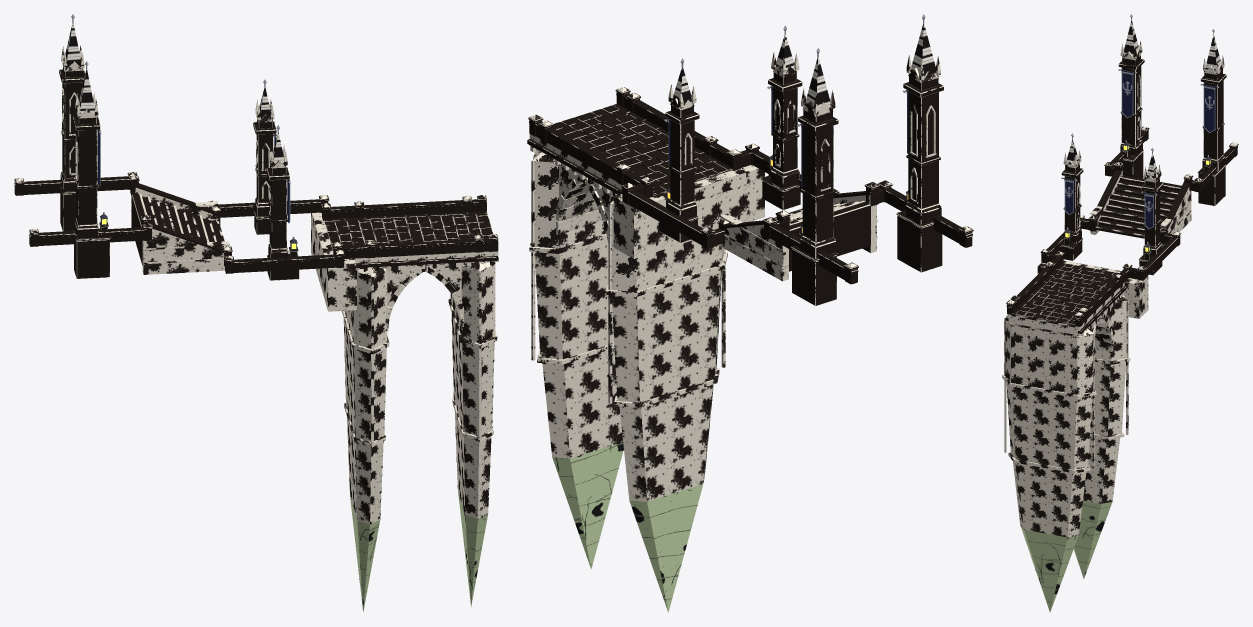
File: ILHA3_18_ENTRY_545a69.fbx
3 renders of one model, left to right at view 1: azimuth 30°, elevation 25°; view 2: azimuth 150°, elevation 25°; view 3: azimuth 270°, elevation 25°, orthographic. The views are drawn at different scales.
Parts seen in each view (by area): view 1: SG_Ent_Bridge__Stone_SG_Block_B, SG_Ent_Porticos__Stone_SG_Castle, SG_Ent_Parapets__Stone_SG_Trim, SG_Ent_Parapets__Stone_SG_Block, SG_Ent_Bridge__Stone_SG_Trim, SG_Ent_Parapets__Stone_SG_Block_B, SG_Ent_Porticos__Stone_SG_Trim, SG_Ent_Bridge__Stone_Paving_SG, SG_Ent_Bridge__Cliff_Rock_SG_Dark, SG_Ent_Porticos__Stone_SG_Block_B, SG_Ent_Stair__Stone_Paving_SG, SG_Ent_Bridge__Stone_Paving_SG_B (+2 smaller); view 2: SG_Ent_Bridge__Stone_SG_Block_B, SG_Ent_Porticos__Stone_SG_Castle, SG_Ent_Bridge__Cliff_Rock_SG_Dark, SG_Ent_Bridge__Stone_SG_Trim, SG_Ent_Porticos__Stone_SG_Trim, SG_Ent_Parapets__Stone_SG_Trim, SG_Ent_Porticos__Stone_SG_Block_B, SG_Ent_Parapets__Stone_SG_Block_B, SG_Ent_Bridge__Stone_Paving_SG, SG_Ent_Parapets__Stone_SG_Block, SG_Ent_Bridge__Stone_Paving_SG_B, SG_Ent_Porticos__Roof_SG_Navy (+1 smaller); view 3: SG_Ent_Bridge__Stone_SG_Block_B, SG_Ent_Porticos__Stone_SG_Castle, SG_Ent_Bridge__Cliff_Rock_SG_Dark, SG_Ent_Bridge__Stone_SG_Trim, SG_Ent_Parapets__Stone_SG_Trim, SG_Ent_Stair__Stone_Paving_SG, SG_Ent_Porticos__Stone_SG_Trim, SG_Ent_Bridge__Stone_Paving_SG, SG_Ent_Parapets__Stone_SG_Block_B, SG_Ent_Porticos__Cloth_SG_Navy, SG_Ent_Porticos__Stone_SG_Block_B, SG_Ent_Parapets__Stone_SG_Block (+4 smaller).
Boxes of the visible parts, left/top/right/bottom form: SG_Ent_Bridge__Stone_SG_Block_B: left=311, top=212, right=498, bottom=524; SG_Ent_Porticos__Stone_SG_Castle: left=60, top=67, right=297, bottom=258; SG_Ent_Parapets__Stone_SG_Trim: left=14, top=172, right=498, bottom=264; SG_Ent_Parapets__Stone_SG_Block: left=30, top=181, right=497, bottom=274; SG_Ent_Bridge__Stone_SG_Trim: left=324, top=211, right=498, bottom=446; SG_Ent_Parapets__Stone_SG_Block_B: left=14, top=178, right=498, bottom=273; SG_Ent_Porticos__Stone_SG_Trim: left=59, top=45, right=298, bottom=257; SG_Ent_Bridge__Stone_Paving_SG: left=326, top=214, right=492, bottom=245; SG_Ent_Bridge__Cliff_Rock_SG_Dark: left=350, top=491, right=487, bottom=611; SG_Ent_Porticos__Stone_SG_Block_B: left=60, top=191, right=299, bottom=280; SG_Ent_Stair__Stone_Paving_SG: left=131, top=194, right=223, bottom=265; SG_Ent_Bridge__Stone_Paving_SG_B: left=325, top=213, right=488, bottom=250; SG_Ent_Bridge__Stone_SG_Block_B: left=529, top=134, right=764, bottom=501; SG_Ent_Porticos__Stone_SG_Castle: left=666, top=69, right=941, bottom=258; SG_Ent_Bridge__Cliff_Rock_SG_Dark: left=552, top=442, right=703, bottom=612; SG_Ent_Bridge__Stone_SG_Trim: left=527, top=104, right=732, bottom=407; SG_Ent_Porticos__Stone_SG_Trim: left=664, top=51, right=943, bottom=261; SG_Ent_Parapets__Stone_SG_Trim: left=528, top=87, right=973, bottom=274; SG_Ent_Porticos__Stone_SG_Block_B: left=659, top=180, right=942, bottom=305; SG_Ent_Parapets__Stone_SG_Block_B: left=540, top=98, right=971, bottom=284; SG_Ent_Bridge__Stone_Paving_SG: left=552, top=105, right=720, bottom=190; SG_Ent_Parapets__Stone_SG_Block: left=529, top=92, right=972, bottom=253; SG_Ent_Bridge__Stone_Paving_SG_B: left=574, top=109, right=727, bottom=193; SG_Ent_Porticos__Roof_SG_Navy: left=672, top=23, right=936, bottom=109; SG_Ent_Bridge__Stone_SG_Block_B: left=1005, top=260, right=1148, bottom=537; SG_Ent_Porticos__Stone_SG_Castle: left=1063, top=55, right=1224, bottom=260; SG_Ent_Bridge__Cliff_Rock_SG_Dark: left=1020, top=500, right=1112, bottom=612; SG_Ent_Bridge__Stone_SG_Trim: left=1002, top=263, right=1130, bottom=473; SG_Ent_Parapets__Stone_SG_Trim: left=1006, top=126, right=1238, bottom=319; SG_Ent_Stair__Stone_Paving_SG: left=1095, top=175, right=1181, bottom=238; SG_Ent_Porticos__Stone_SG_Trim: left=1060, top=41, right=1226, bottom=261; SG_Ent_Bridge__Stone_Paving_SG: left=1016, top=267, right=1114, bottom=323; SG_Ent_Parapets__Stone_SG_Block_B: left=1007, top=135, right=1237, bottom=322; SG_Ent_Porticos__Cloth_SG_Navy: left=1064, top=70, right=1215, bottom=229; SG_Ent_Porticos__Stone_SG_Block_B: left=1059, top=152, right=1225, bottom=275; SG_Ent_Parapets__Stone_SG_Block: left=1007, top=130, right=1194, bottom=326.
Size of the model in its own units: 99.7 by 135 by 61.44.
Materials: 7 (3 with a texture image).
